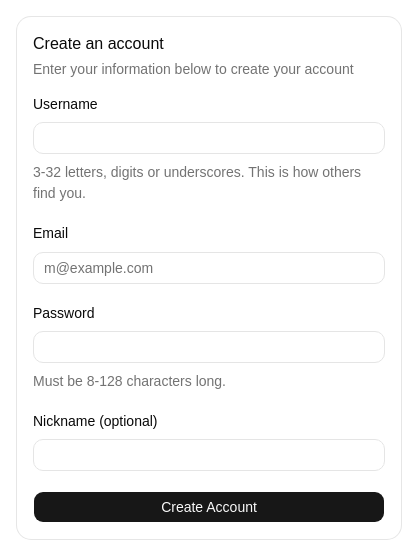
it: signup page › shows a taken Username as an error on the Username field
In the field labelled "Username": (209, 138) [33, 122, 385, 154], type "alice"
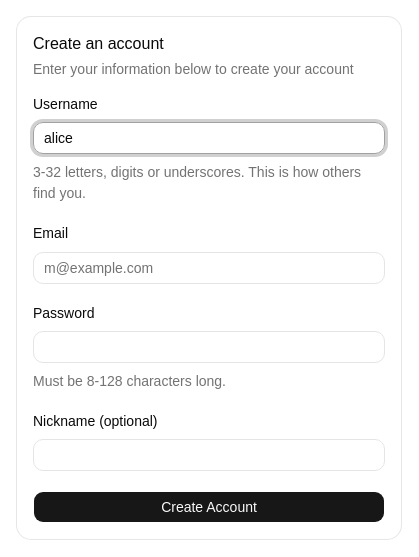
In the field labelled "Email": (209, 268) [33, 252, 385, 284], type "alice@example.com"
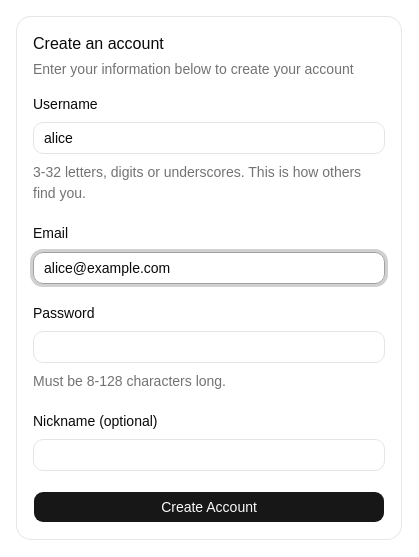
In the password field labelled "Password": (209, 347) [33, 331, 385, 363], type "correct horse battery"
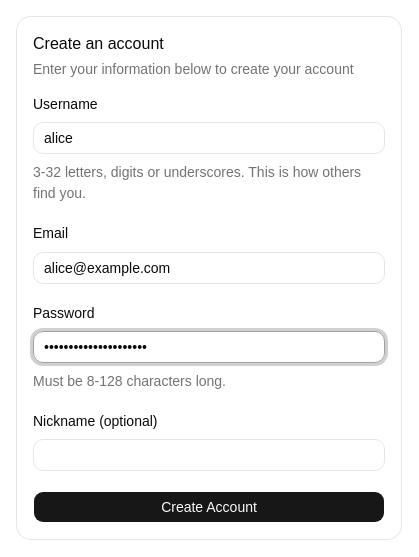
Click the button "Create Account": (209, 507) [33, 491, 385, 523]
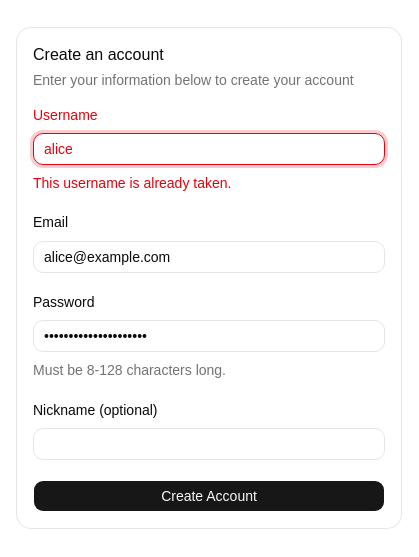
Expected: the message reads "This username is already taken.", [33, 175, 231, 191]
